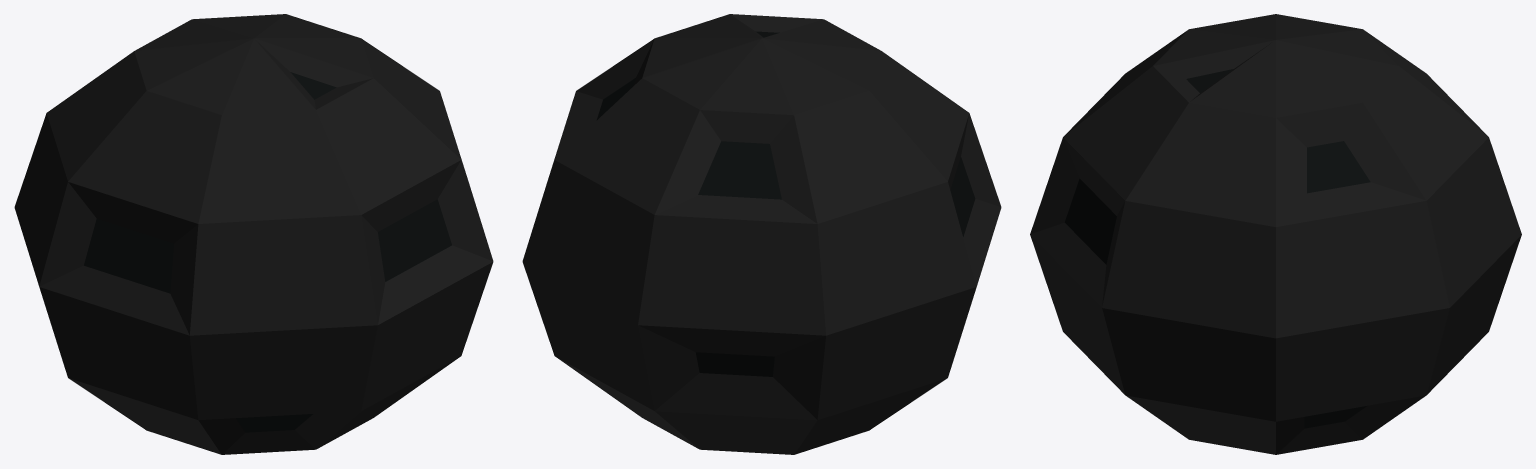
Rendered from Vitoria_Minion_Third.fbx.
3 views of the same model, side by side, from view 1: azimuth 30°, elevation 25°; view 2: azimuth 150°, elevation 25°; view 3: azimuth 270°, elevation 25° (orthographic).
Parts seen in each view (by area): view 1: Sphere; view 2: Sphere; view 3: Sphere.
Boxes of the visible parts, left/top/right/bottom form: Sphere: left=14, top=14, right=493, bottom=454; Sphere: left=522, top=14, right=1001, bottom=454; Sphere: left=1030, top=14, right=1521, bottom=454.
Bounding box in the file's own units: 200 × 175 × 200.
